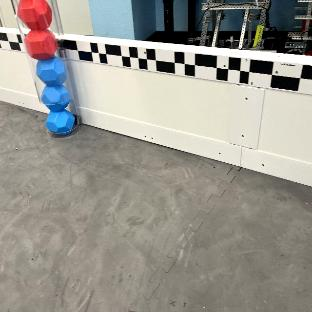Loader: (16, 0, 75, 133)
V5_BLUE: (37, 57, 74, 133)
V5_RED: (18, 0, 57, 58)
